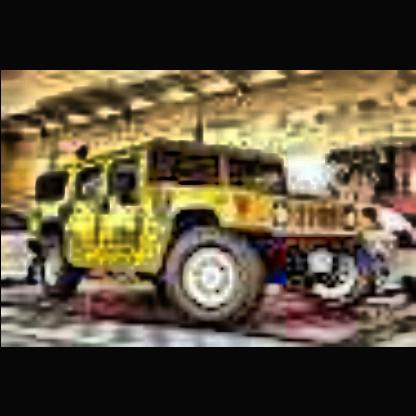AM General Hummer SUV 2000: (24, 133, 416, 329)
